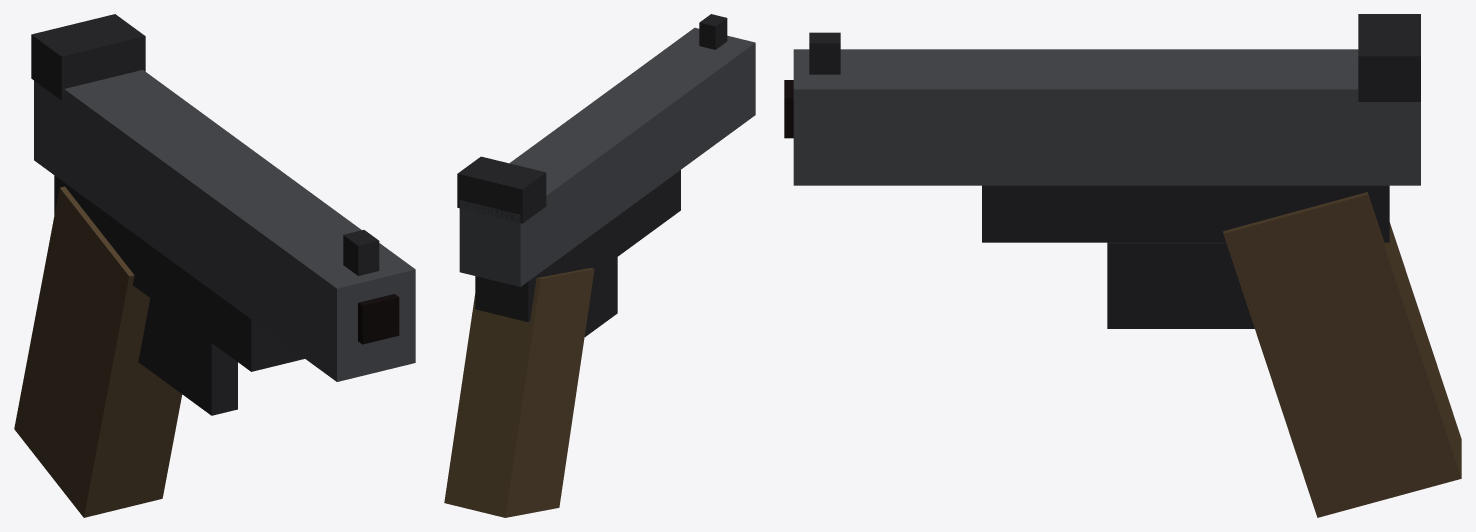
File: pistol.glb
3 views of the same model, side by side, from view 1: azimuth 30°, elevation 25°; view 2: azimuth 150°, elevation 25°; view 3: azimuth 270°, elevation 25° (orthographic). The views are drawn at different scales.
Visible parts, largest first — view 1: pistol; view 2: pistol; view 3: pistol.
Boxes of the visible parts, x1,y1,x2,y2 form: pistol: (14,14,415,517); pistol: (444,14,755,517); pistol: (784,14,1461,517).
Size of the model in its own units: 0.032 by 0.1629 by 0.216.
